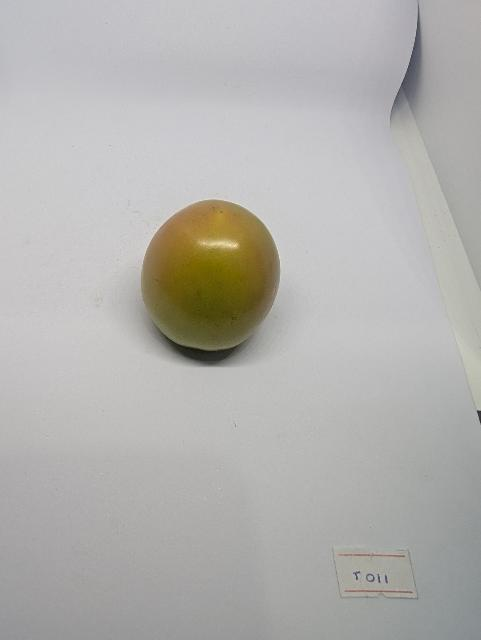breaker: (141, 200, 281, 351)
